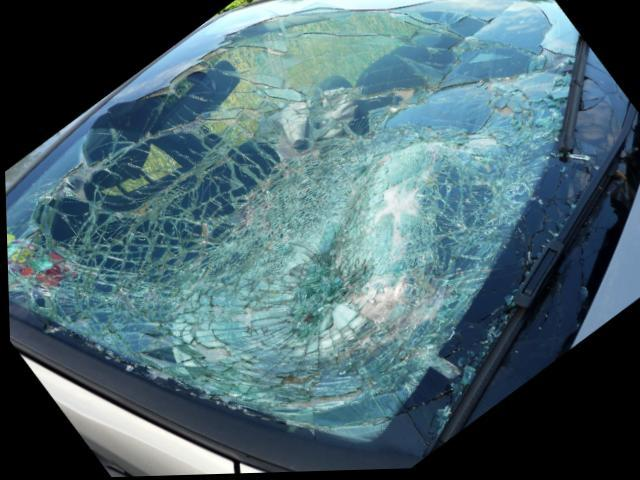glass shatter: (5, 0, 640, 473)
